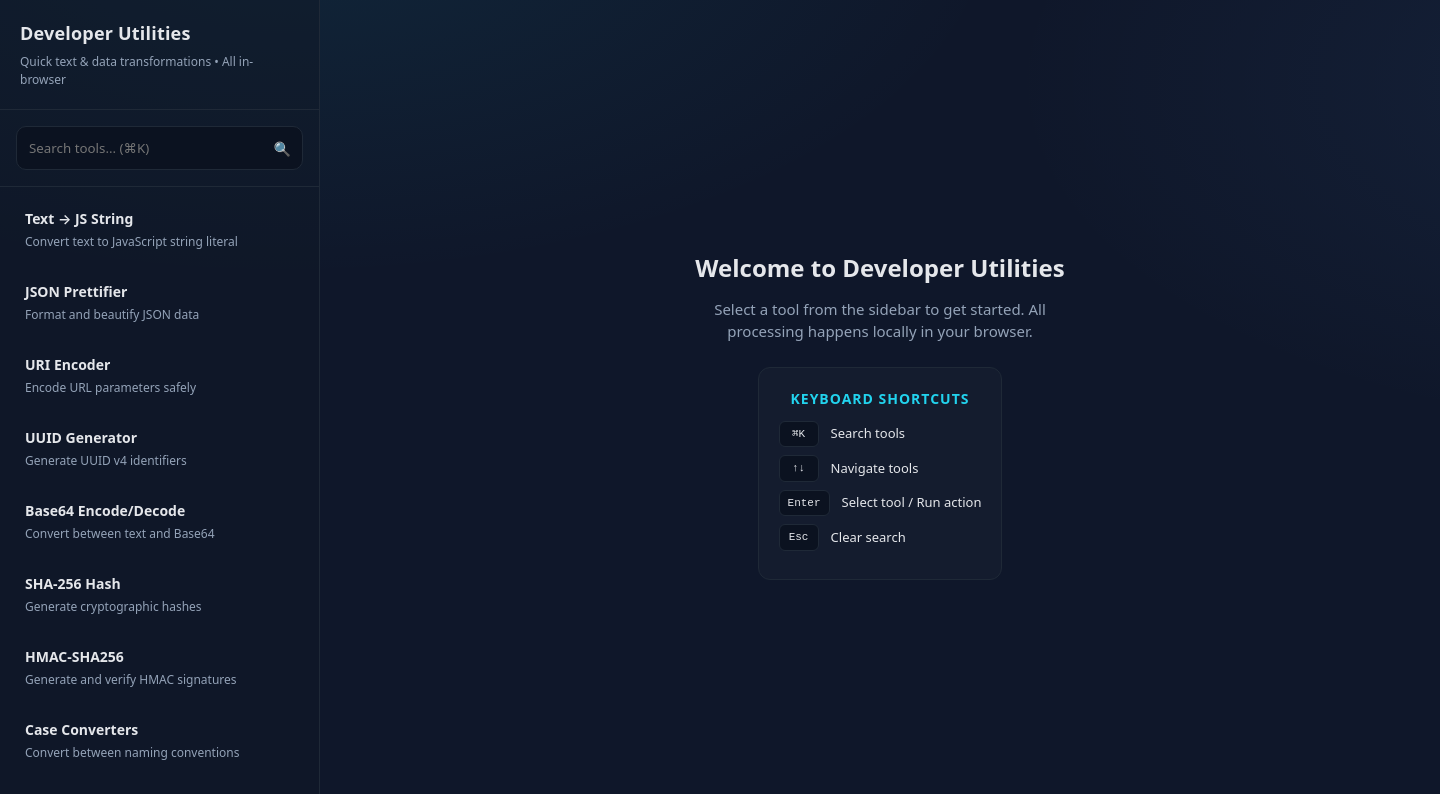
Test: App › filters tools based on search
The width and height of the screenshot is (1440, 794).
Step 1. Type "json" into the field with placeholder "Search tools... (⌘K)" → x=160, y=148, box x1=16 y1=126 x2=303 y2=170
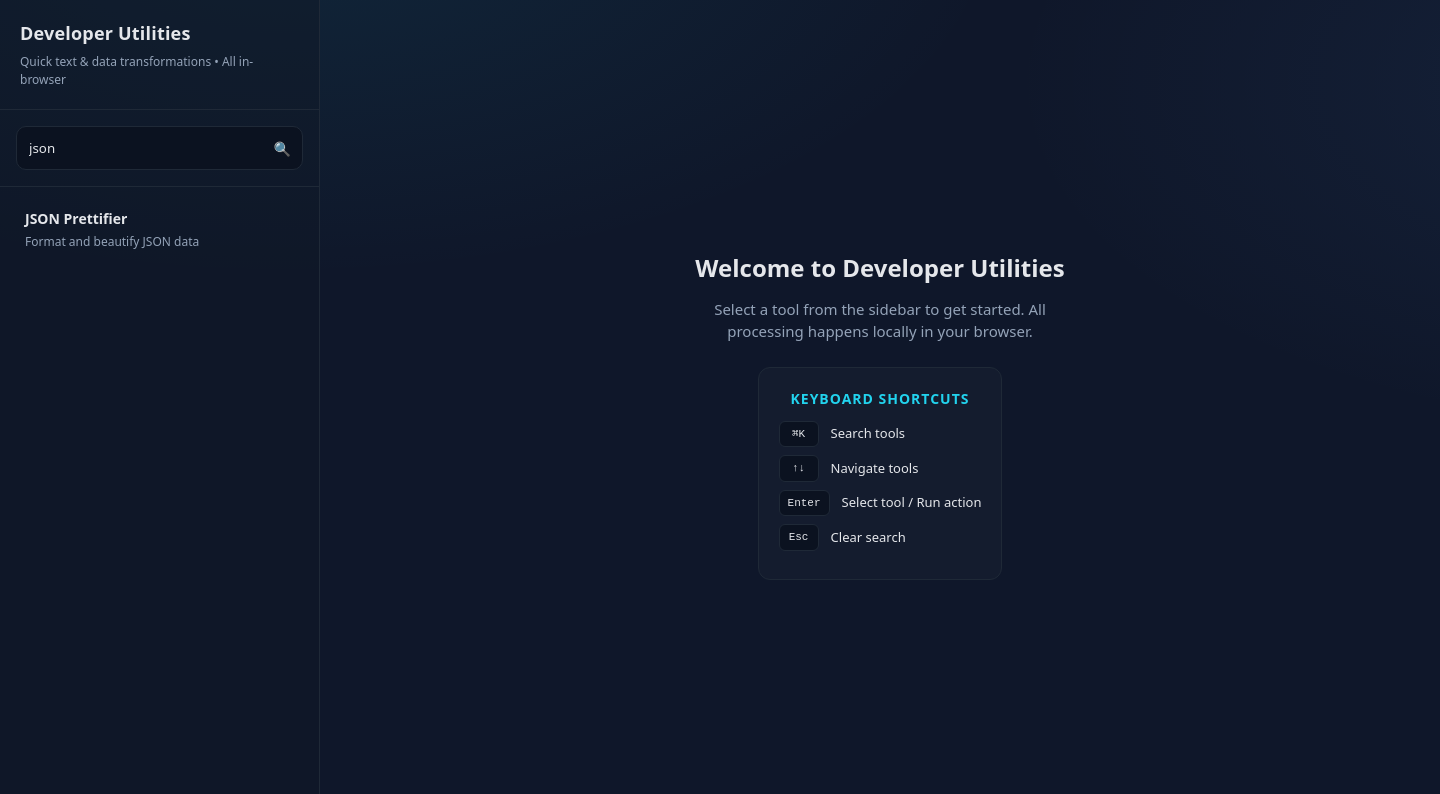
Expected: the heading "JSON Prettifier" is shown, x1=25 y1=209 x2=127 y2=228
Expected: the heading "UUID Generator" is gone
